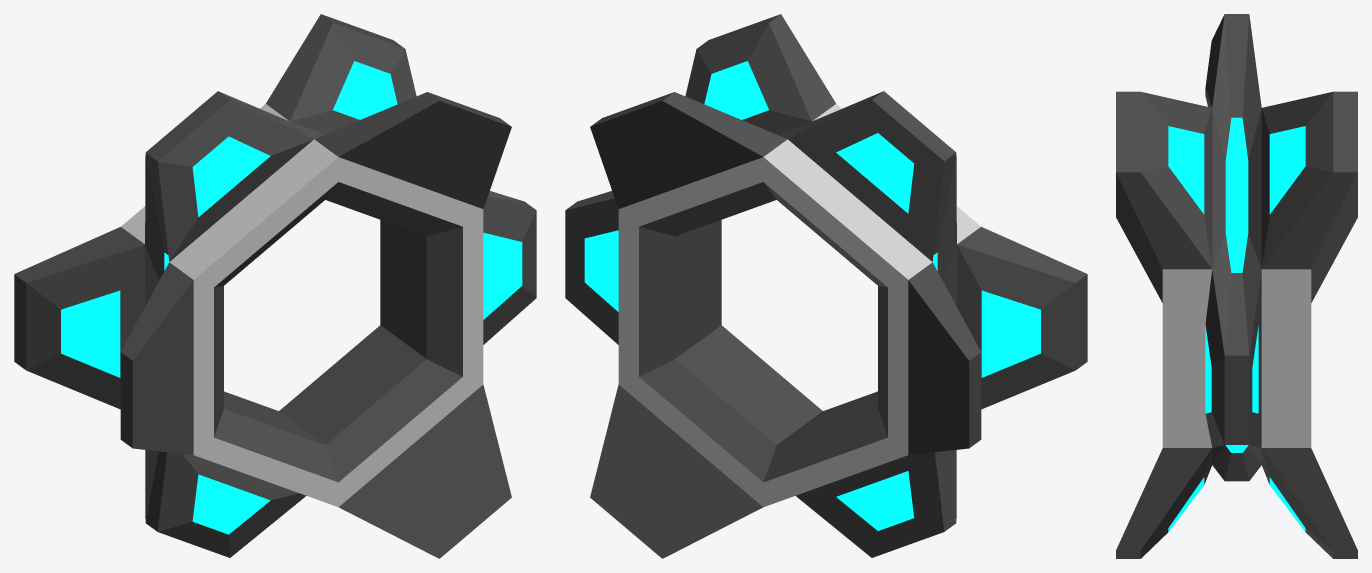
The model's file is Roofdec2.fbx.
3 views of the same model, side by side, from view 1: azimuth 30°, elevation 25°; view 2: azimuth 150°, elevation 25°; view 3: azimuth 270°, elevation 25° (orthographic).
Parts seen in each view (by area): view 1: Cylinder; view 2: Cylinder; view 3: Cylinder.
Boxes of the visible parts, x1,y1,x2,y2 form: Cylinder: (14,14,536,558); Cylinder: (565,14,1087,558); Cylinder: (1116,14,1357,558).
Size of the model in its own units: 273 by 262 by 123.
